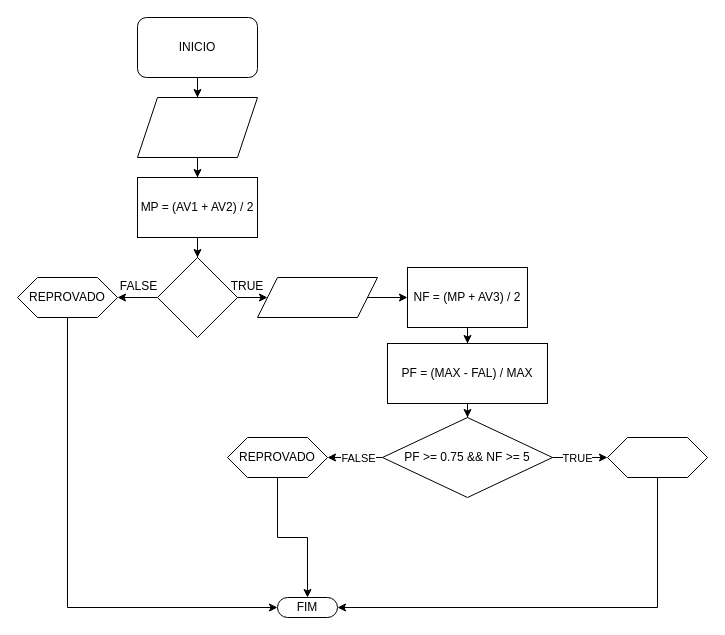
Some shapes in this 725 by 635 pixel diagram are drawn without their labels. The shapes that lost their labels are listed below. From the top down, each one's centre as x and y in pixels, then its label:
At (x=197, y=127): "AV1, AV2".
At (x=197, y=297): "MP >= 4".
At (x=317, y=297): "AV3, FAL".
At (x=657, y=457): "APROVADO".
